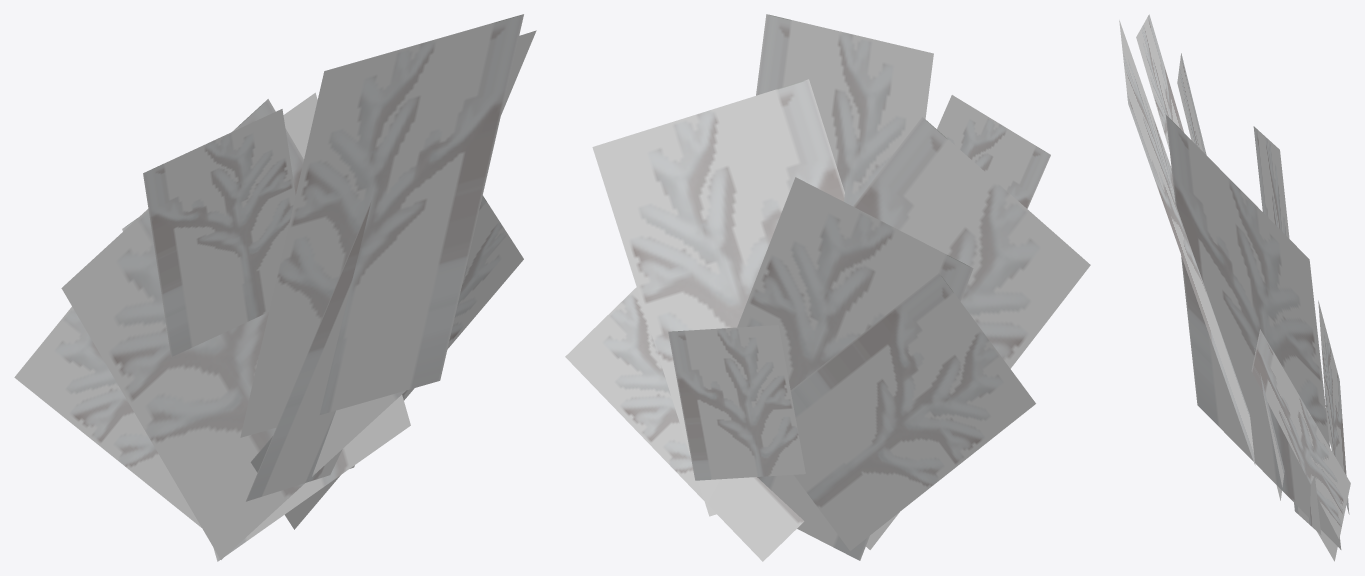
Rendered from Ice_branch_01.fbx.
3 views of the same model, side by side, from view 1: azimuth 30°, elevation 25°; view 2: azimuth 150°, elevation 25°; view 3: azimuth 270°, elevation 25° (orthographic). The views are drawn at different scales.
Visible parts, largest first — view 1: Ice_branch_01; view 2: Ice_branch_01; view 3: Ice_branch_01.
Part boxes in pixels (x1,y1,x2,y2): Ice_branch_01: (14,14,536,561); Ice_branch_01: (565,14,1090,561); Ice_branch_01: (1119,14,1350,561).
Size of the model in its own units: 160 by 157 by 65.09.
